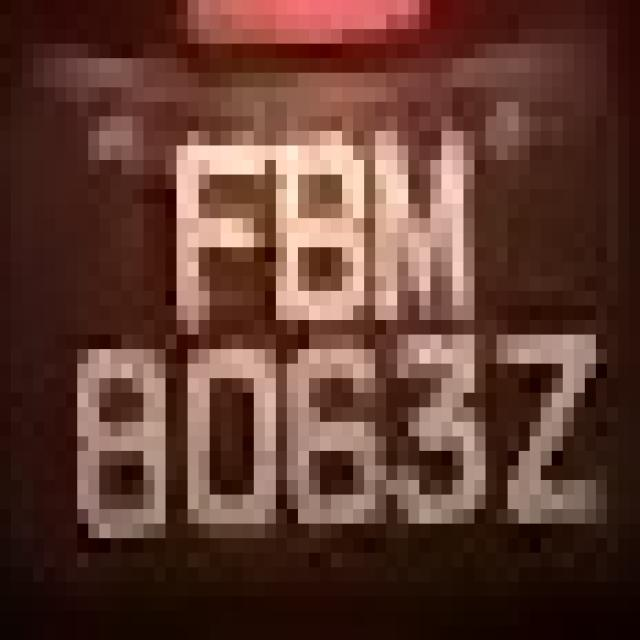0: (165, 320, 276, 524)
3: (353, 335, 497, 538)
6: (254, 320, 386, 567)
8: (66, 320, 177, 582)
B: (254, 87, 386, 335)
F: (143, 87, 232, 378)
M: (331, 116, 497, 320)
Z: (485, 291, 607, 553)
